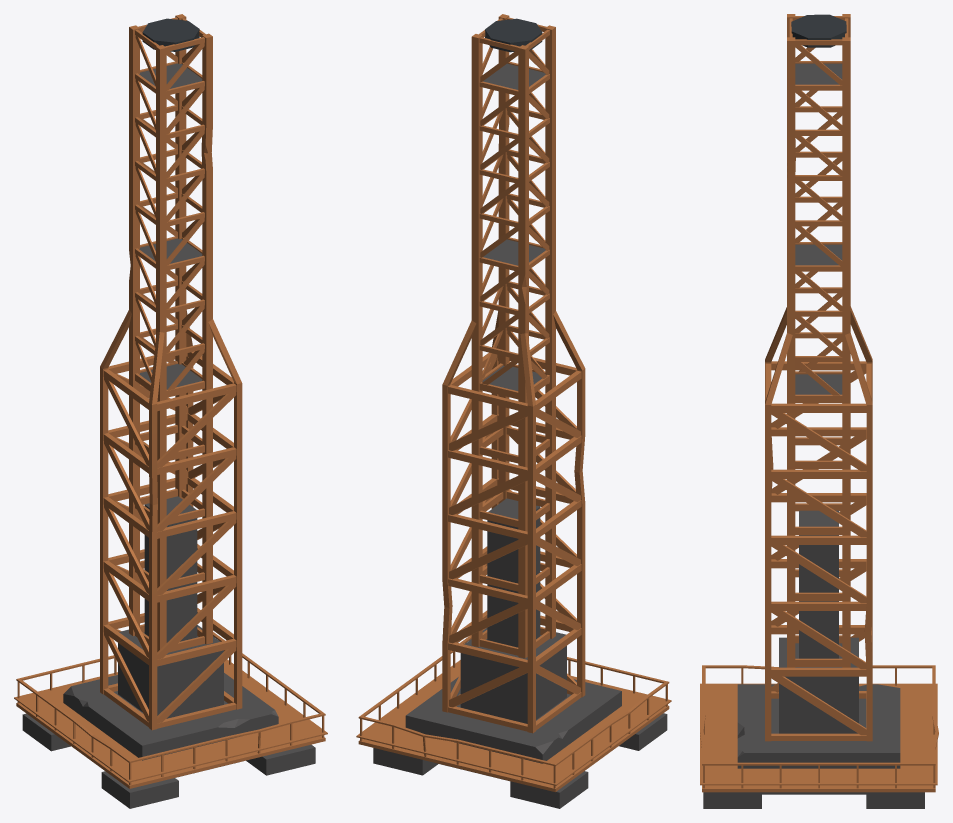
Rendered from SM_Bld_Crane_01.obj.
3 views of the same model, side by side, from view 1: azimuth 30°, elevation 25°; view 2: azimuth 150°, elevation 25°; view 3: azimuth 270°, elevation 25° (orthographic). The views are drawn at different scales.
Parts seen in each view (by area): view 1: SM_Bld_Crane_01_0; view 2: SM_Bld_Crane_01_0; view 3: SM_Bld_Crane_01_0.
Part boxes in pixels (x1=…): SM_Bld_Crane_01_0: x1=14, y1=14, x2=327, y2=808; SM_Bld_Crane_01_0: x1=356, y1=14, x2=671, y2=808; SM_Bld_Crane_01_0: x1=700, y1=14, x2=938, y2=808.
Size of the model in its own units: 7.49 by 25.67 by 7.53.
Materials: 1 (1 with a texture image).
